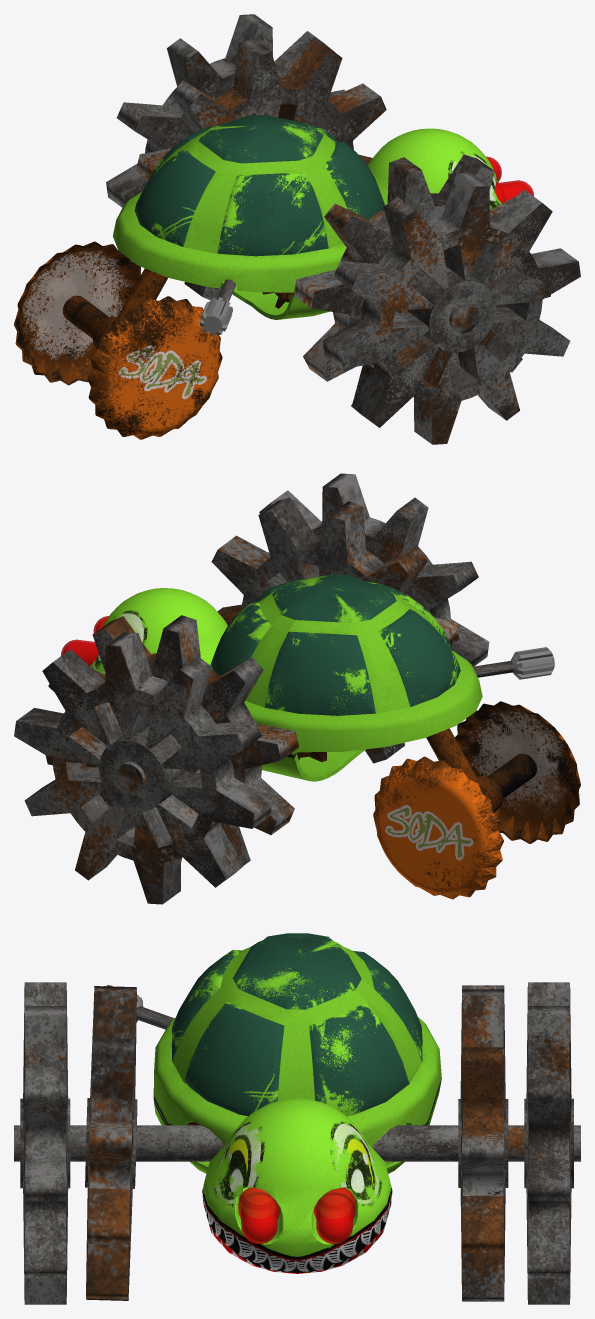
Rendered from zCarSeperate.fbx.
3 renders of one model, top to bottom at view 1: azimuth 30°, elevation 25°; view 2: azimuth 150°, elevation 25°; view 3: azimuth 270°, elevation 25°, orthographic. The views are drawn at different scales.
Visible parts, largest first — view 1: pCylinder17, pCylinder8, Cap1, pCylinder6, Cap, pCylinder5, pCylinder18, pCylinder14, pCylinder9, pCylinder11, pCylinder4, polySurface3; view 2: pCylinder8, pCylinder18, Cap, pCylinder5, Cap1, pCylinder6, pCylinder17, pCylinder14, pCylinder9, pCylinder11, pCylinder4, polySurface4; view 3: pCylinder8, pCylinder17, pCylinder18, pCylinder6, pCylinder5, pCylinder4, polySurface3, polySurface4, pCylinder14.
Boxes of the visible parts, box(x1,y1,x2,y2) form: pCylinder17: box(322, 173, 580, 444); pCylinder8: box(113, 115, 501, 319); Cap1: box(87, 296, 222, 439); pCylinder6: box(136, 38, 386, 299); Cap: box(14, 241, 140, 385); pCylinder5: box(294, 154, 550, 412); pCylinder18: box(106, 14, 345, 207); pCylinder14: box(199, 279, 235, 335); pCylinder9: box(63, 295, 108, 338); pCylinder11: box(116, 268, 167, 319); pCylinder4: box(449, 302, 478, 333); polySurface3: box(494, 180, 533, 203); pCylinder8: box(90, 574, 482, 781); pCylinder18: box(14, 632, 272, 904); Cap: box(373, 756, 503, 899); pCylinder5: box(211, 497, 459, 763); Cap1: box(455, 701, 580, 843); pCylinder6: box(45, 615, 298, 865); pCylinder17: box(259, 473, 489, 666); pCylinder14: box(473, 647, 554, 679); pCylinder9: box(487, 753, 536, 798); pCylinder11: box(426, 728, 478, 782); pCylinder4: box(115, 761, 145, 792); polySurface4: box(61, 639, 98, 666); pCylinder8: box(153, 933, 441, 1273); pCylinder17: box(20, 982, 70, 1304); pCylinder18: box(524, 982, 573, 1304); pCylinder6: box(458, 985, 508, 1301); pCylinder5: box(85, 986, 137, 1300); pCylinder4: box(14, 1125, 580, 1161); polySurface3: box(238, 1187, 280, 1243); polySurface4: box(313, 1188, 355, 1244); pCylinder14: box(104, 985, 174, 1029).
Size of the model in its own units: 18.94 by 9.81 by 17.22.
